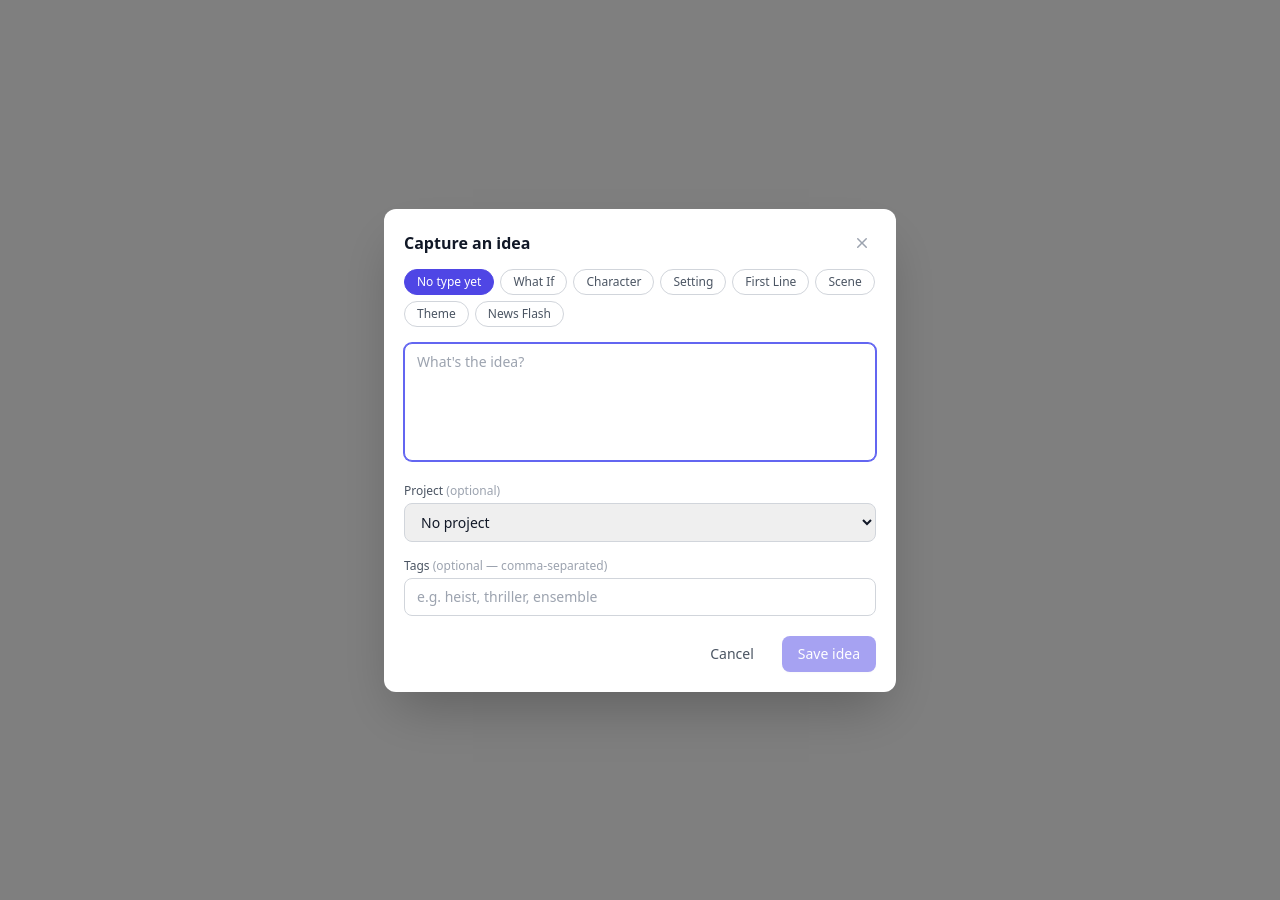
QuickCaptureModal › Save button becomes enabled once content is typed
Type "What if the detective is the murderer?" into the text box named "idea content". click: (640, 402)
box: [404, 342, 876, 460]
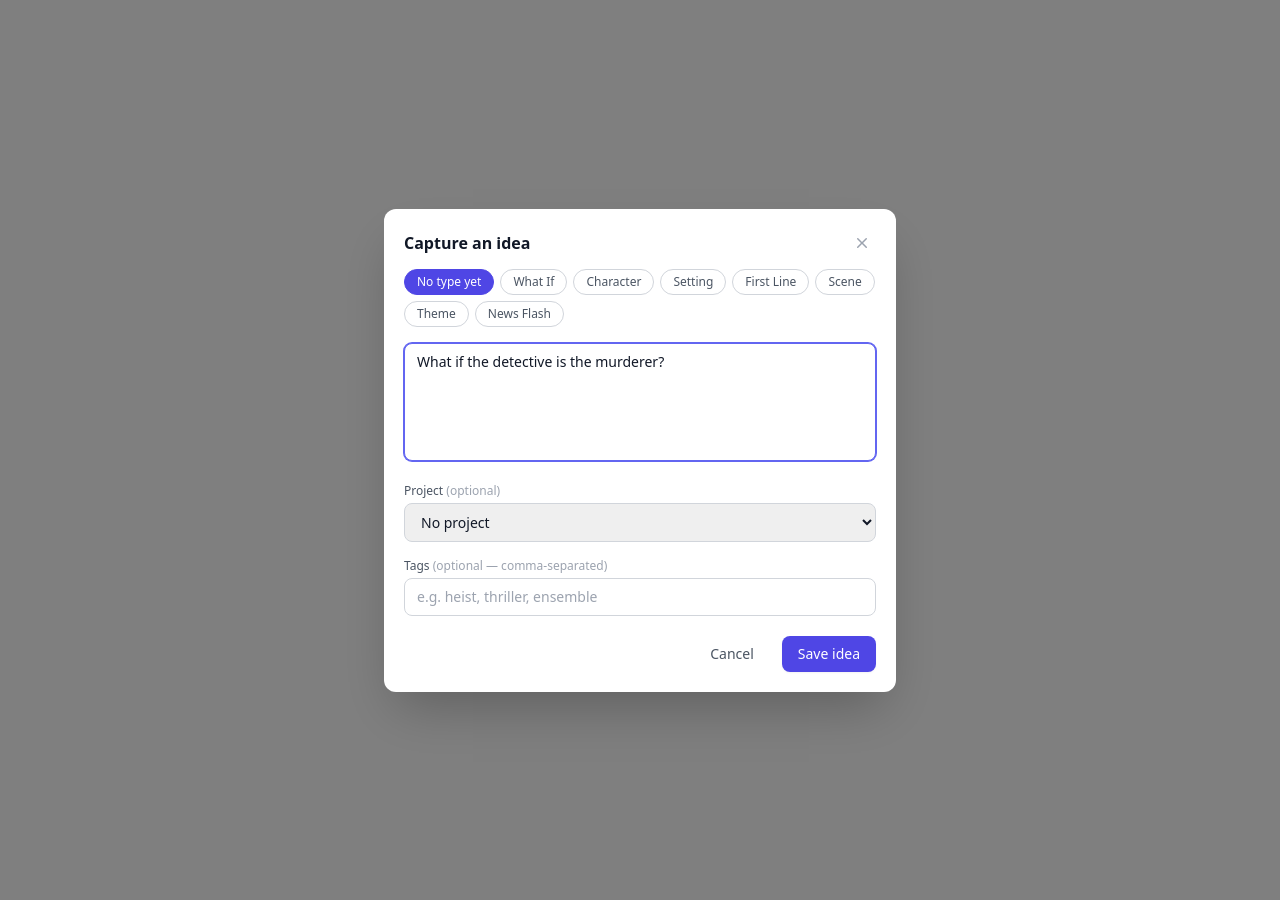
Check: the button "Save idea" is enabled, box [782, 636, 876, 672]
